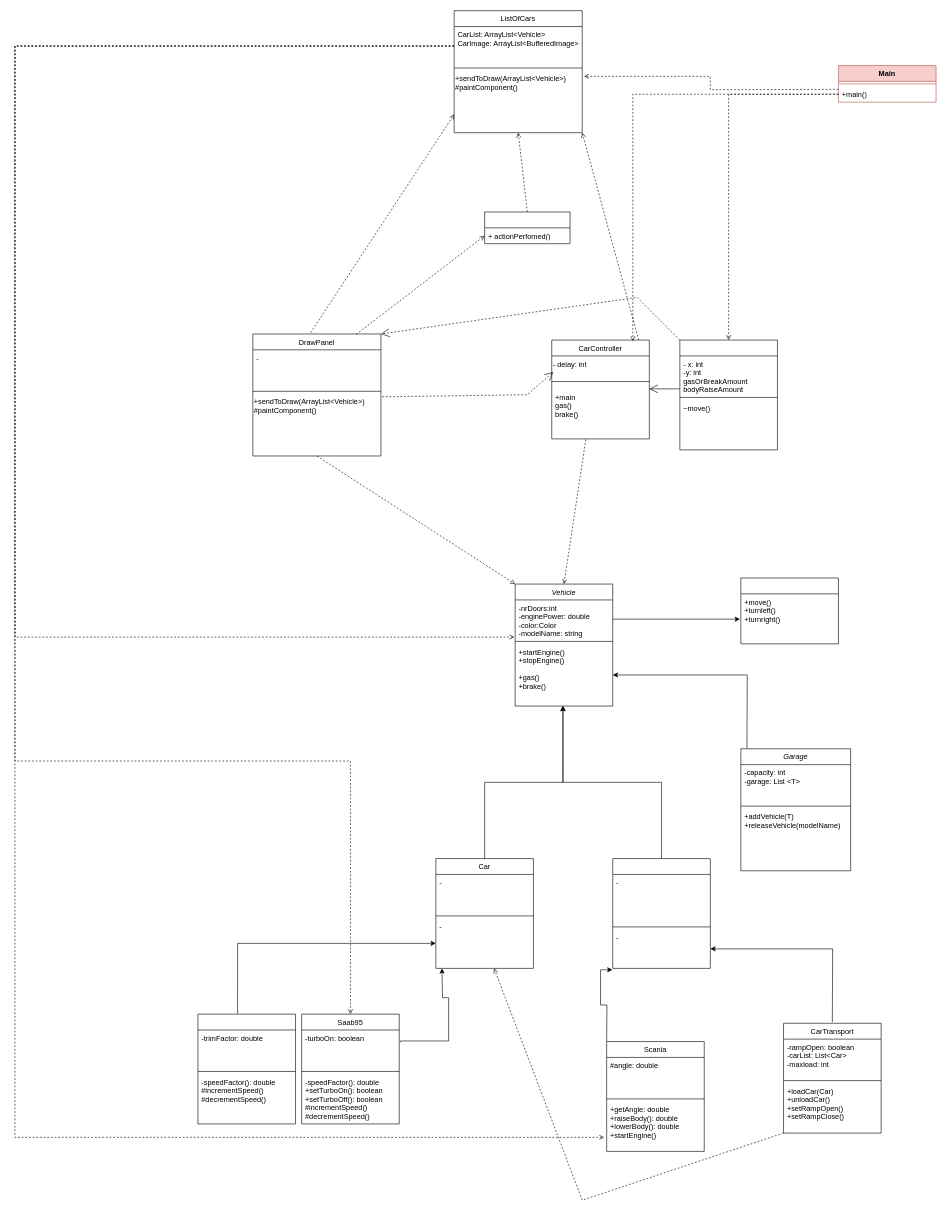
Some shapes in this 947 by 1216 pixel diagram are drawn without their labels. The box of each missing label's shape, as (x1, y1, x2, y2) in pixels:
CarView: (679, 339, 777, 450)
Movable: (740, 577, 838, 644)
TimeListener: (484, 211, 570, 244)
Truck: (612, 858, 710, 968)
Volvo240: (197, 1014, 296, 1124)
